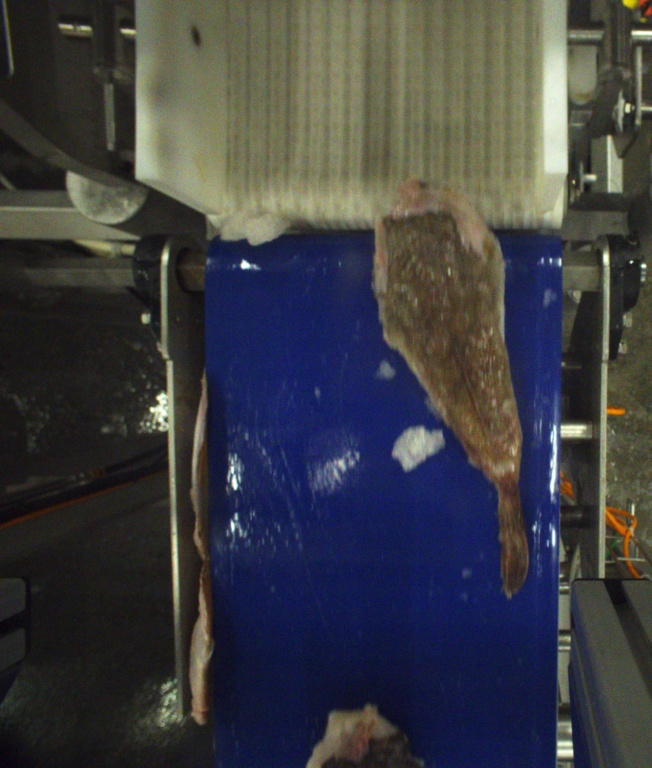ANF: (296, 700, 424, 768)
